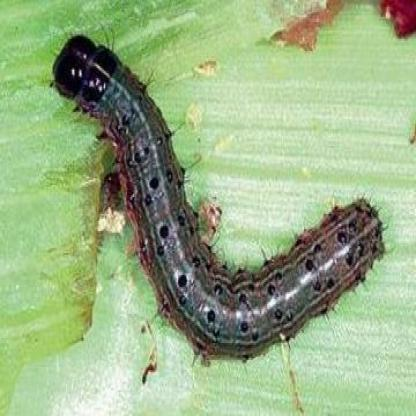armyworm: (52, 31, 386, 364)
